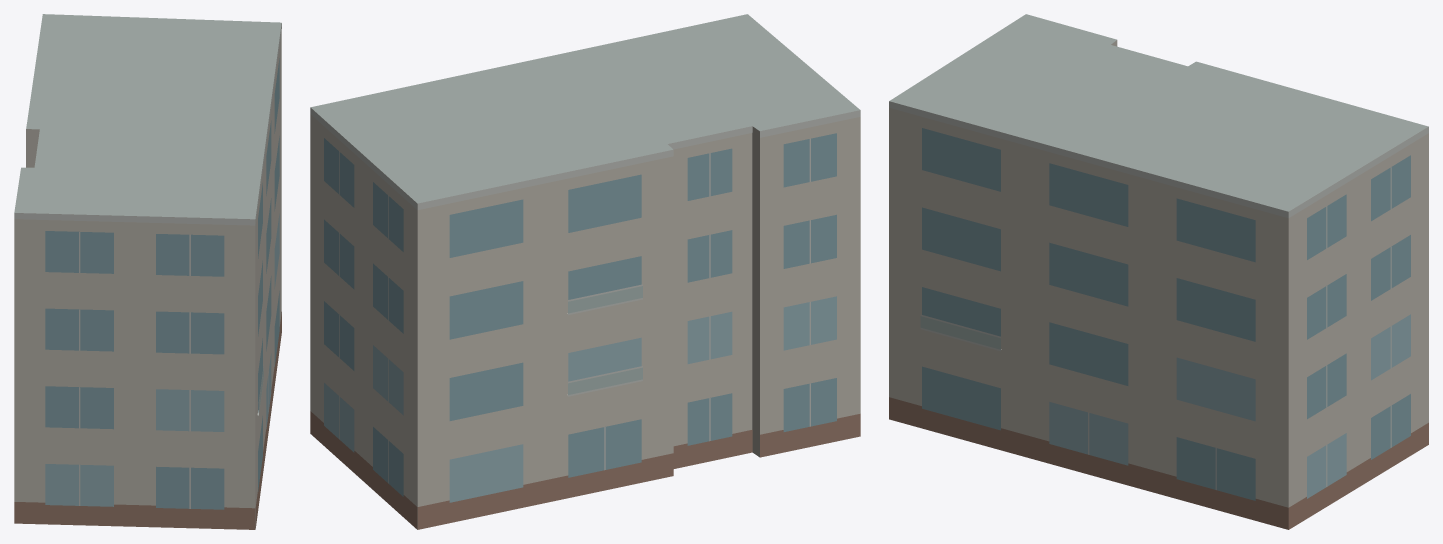
Rendered from survey-upis-32748859.glb.
3 renders of one model, left to right at view 1: azimuth 30°, elevation 25°; view 2: azimuth 150°, elevation 25°; view 3: azimuth 270°, elevation 25°, orthographic. The views are drawn at different scales.
Visible parts, largest first — view 1: survey-upis-32748859.tmp; view 2: survey-upis-32748859.tmp; view 3: survey-upis-32748859.tmp.
Boxes of the visible parts, bbox=[...] form: survey-upis-32748859.tmp: bbox=[14, 14, 281, 529]; survey-upis-32748859.tmp: bbox=[310, 14, 860, 529]; survey-upis-32748859.tmp: bbox=[889, 14, 1428, 529].
Bounding box in the file's own units: 15.87 × 11.9 × 18.3.
